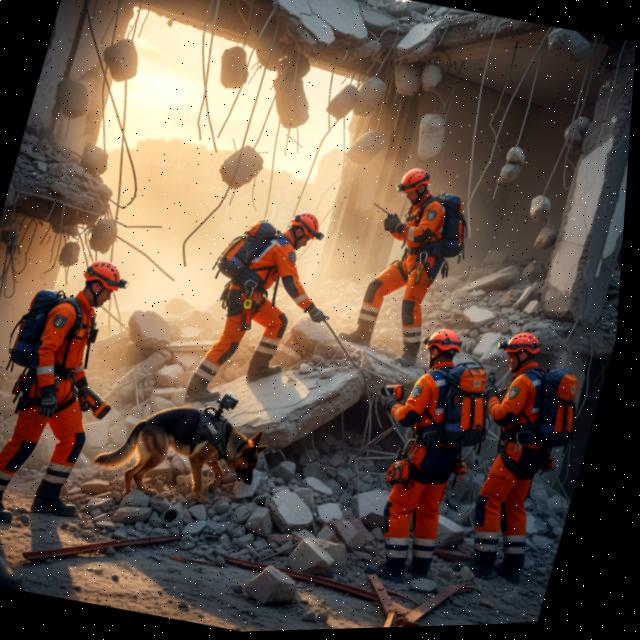dog: (81, 377, 283, 526)
rescuer: (343, 306, 522, 607), (430, 312, 610, 594), (0, 242, 160, 544), (172, 180, 349, 417), (332, 141, 484, 384)
